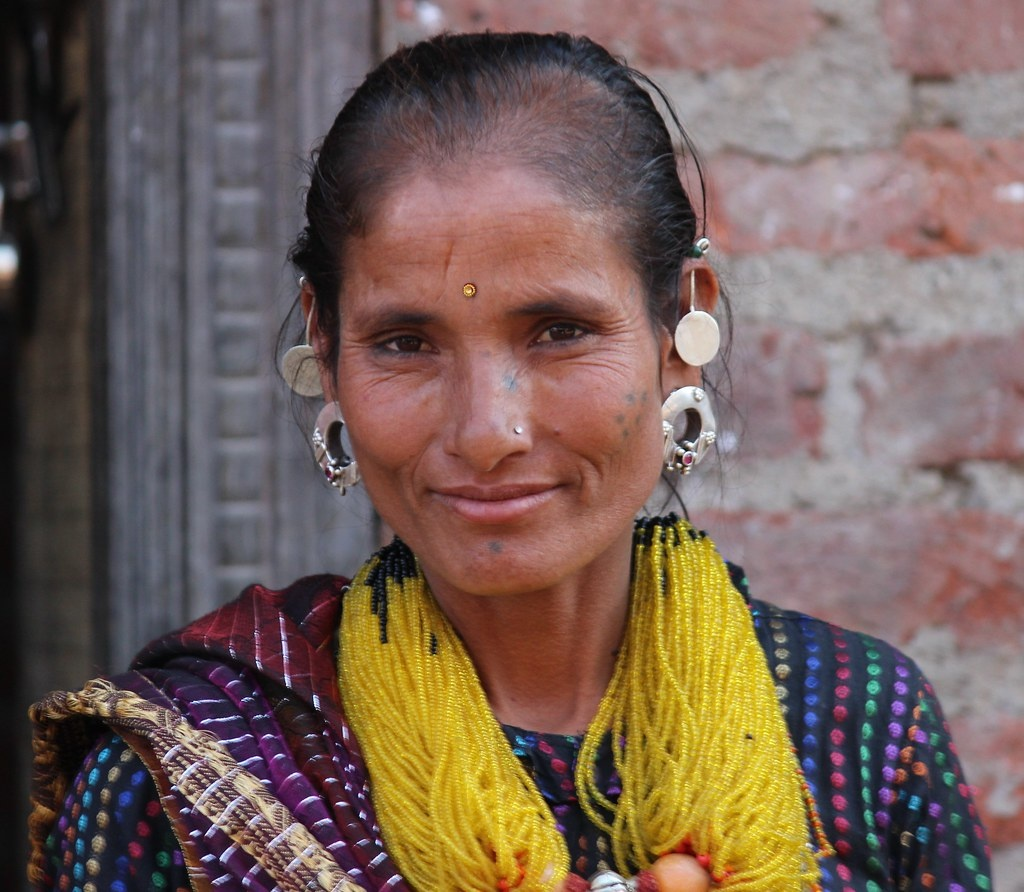without_mask: (311, 144, 696, 590)
